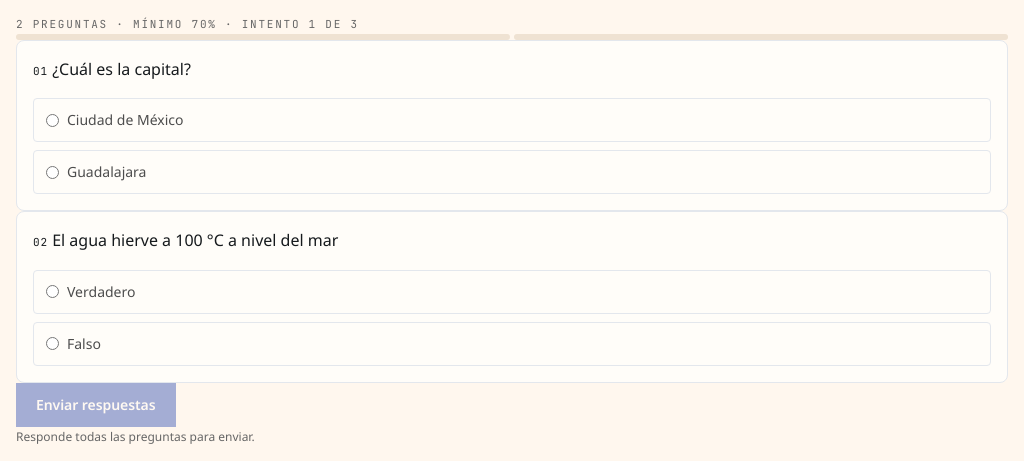
Scenario: EvaluacionPanel › sin intentos restantes no ofrece reintentar
Click the radio button labelled "Ciudad de México" at (52, 120), box [46,114,59,127]
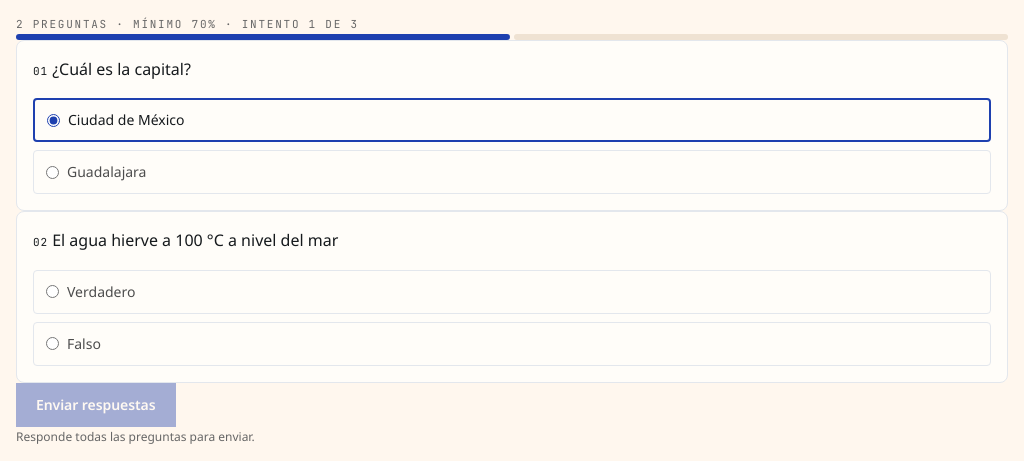
Click the radio button labelled "Verdadero" at (52, 292), box [46,285,59,298]
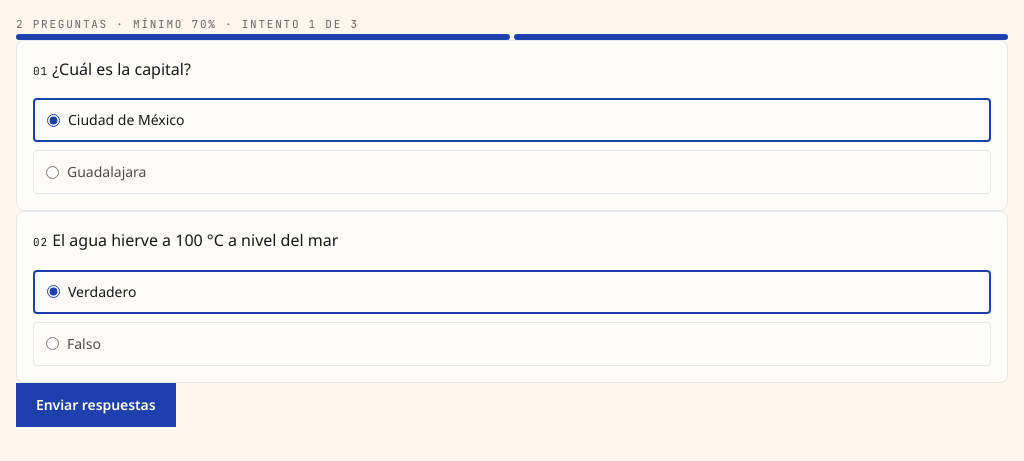
Submit the form
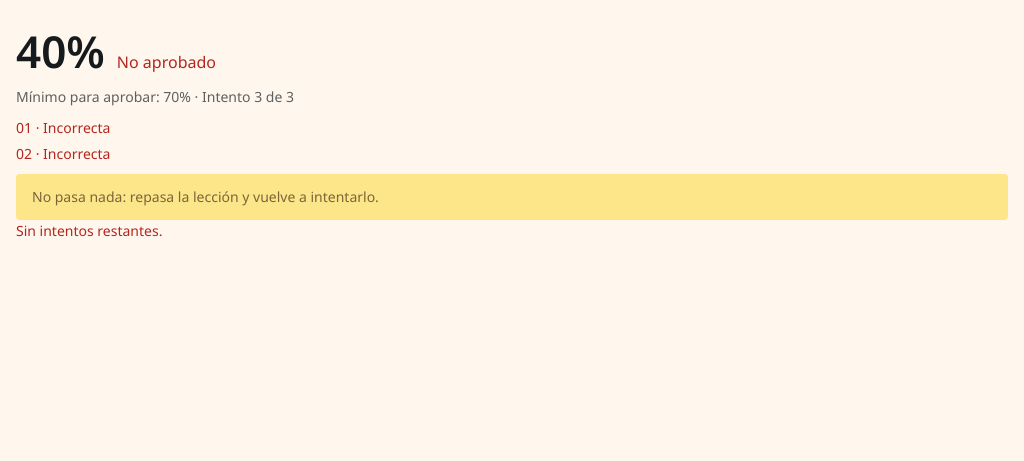
Now the text "Sin intentos restantes" is shown, box [16,221,162,240]
